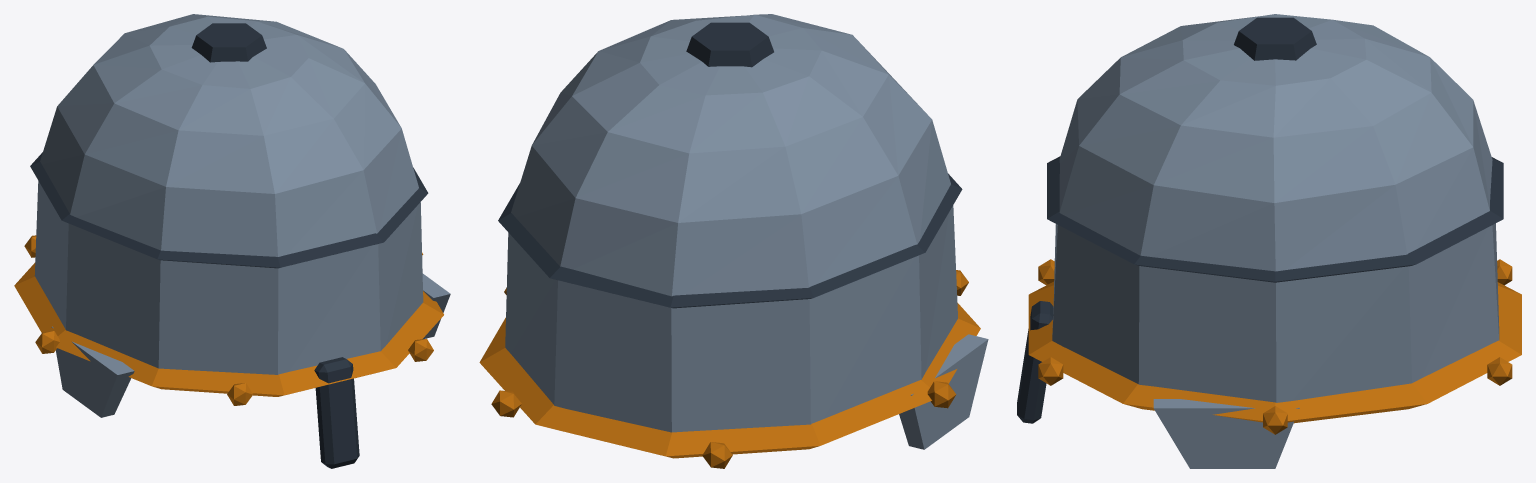
The model's file is Item_IronHelmet.fbx.
3 views of the same model, side by side, from view 1: azimuth 30°, elevation 25°; view 2: azimuth 150°, elevation 25°; view 3: azimuth 270°, elevation 25° (orthographic). The views are drawn at different scales.
Parts seen in each view (by area): view 1: Item_IronHelmet; view 2: Item_IronHelmet; view 3: Item_IronHelmet.
Boxes of the visible parts, box(x1,y1,x2,y2) form: Item_IronHelmet: box(14, 14, 450, 468); Item_IronHelmet: box(479, 14, 988, 468); Item_IronHelmet: box(1017, 14, 1521, 468).
Size of the model in its own units: 0.4004 by 0.3501 by 0.4144.
